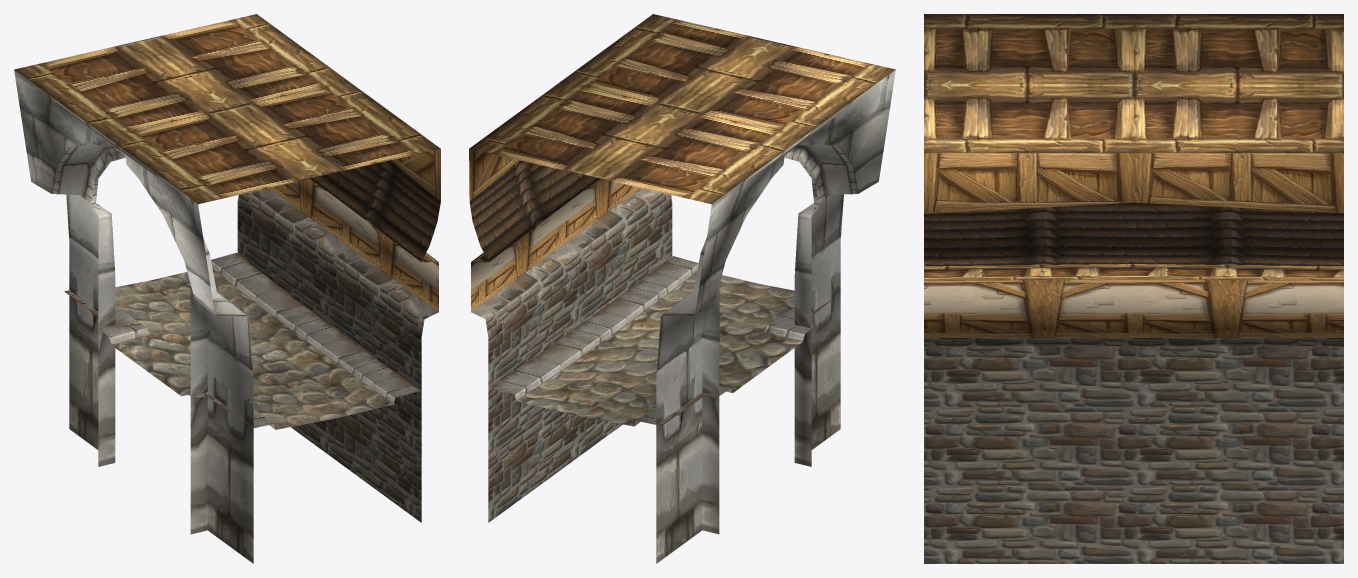
Rendered from stormwind_020.fbx.
3 renders of one model, left to right at view 1: azimuth 30°, elevation 25°; view 2: azimuth 150°, elevation 25°; view 3: azimuth 270°, elevation 25°, orthographic. The views are drawn at different scales.
Parts seen in each view (by area): view 1: stormwind_020_10, stormwind_020_11, stormwind_020_3, stormwind_020_46, stormwind_020_4, stormwind_020_12, stormwind_020_1, stormwind_020_18, stormwind_020_5; view 2: stormwind_020_10, stormwind_020_11, stormwind_020_3, stormwind_020_46, stormwind_020_4, stormwind_020_12, stormwind_020_1, stormwind_020_18, stormwind_020_5; view 3: stormwind_020_3, stormwind_020_10, stormwind_020_1, stormwind_020_18.
Part boxes in pixels (x1=…): stormwind_020_10: x1=14, y1=14, x2=440, y2=262; stormwind_020_11: x1=66, y1=194, x2=253, y2=563; stormwind_020_3: x1=237, y1=188, x2=438, y2=522; stormwind_020_46: x1=112, y1=269, x2=392, y2=429; stormwind_020_4: x1=14, y1=70, x2=214, y2=315; stormwind_020_12: x1=64, y1=252, x2=420, y2=429; stormwind_020_1: x1=269, y1=149, x2=440, y2=311; stormwind_020_18: x1=309, y1=160, x2=440, y2=261; stormwind_020_5: x1=52, y1=137, x2=217, y2=296; stormwind_020_10: x1=469, y1=14, x2=895, y2=262; stormwind_020_11: x1=656, y1=194, x2=843, y2=563; stormwind_020_3: x1=471, y1=188, x2=672, y2=522; stormwind_020_46: x1=517, y1=273, x2=802, y2=426; stormwind_020_4: x1=694, y1=70, x2=895, y2=316; stormwind_020_12: x1=489, y1=256, x2=834, y2=426; stormwind_020_1: x1=469, y1=149, x2=640, y2=311; stormwind_020_18: x1=469, y1=160, x2=600, y2=261; stormwind_020_5: x1=692, y1=137, x2=858, y2=296; stormwind_020_3: x1=924, y1=338, x2=1343, y2=563; stormwind_020_10: x1=924, y1=14, x2=1343, y2=280; stormwind_020_1: x1=924, y1=153, x2=1343, y2=337; stormwind_020_18: x1=924, y1=202, x2=1343, y2=266.
Bounding box in the file's own units: 13.09 × 19.23 × 17.19.
